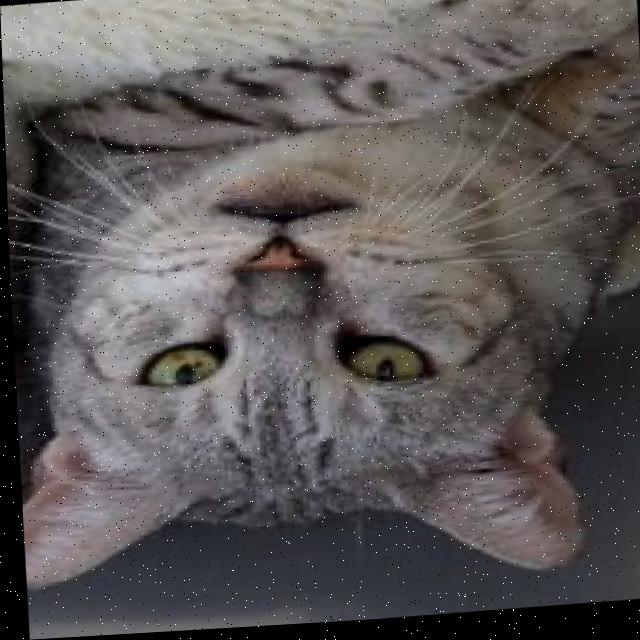Egyptian Mau: (0, 0, 640, 616)
